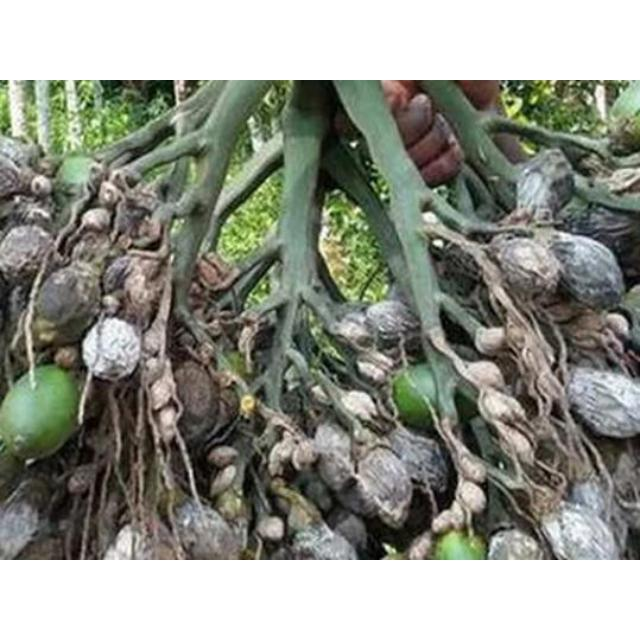damaged: (332, 300, 418, 364), (566, 368, 640, 439), (556, 304, 634, 370), (0, 477, 58, 559), (475, 386, 537, 462), (386, 428, 450, 500), (172, 498, 244, 560), (103, 250, 165, 322), (513, 148, 575, 218), (542, 506, 618, 560), (35, 268, 97, 332), (80, 317, 142, 381), (54, 486, 108, 558), (494, 238, 556, 298), (362, 451, 412, 525), (172, 363, 220, 435), (568, 206, 636, 256), (1, 224, 54, 282), (146, 366, 184, 446), (310, 423, 354, 487), (608, 444, 640, 532), (272, 481, 326, 533), (79, 414, 121, 476), (290, 522, 358, 560), (112, 191, 158, 245), (68, 205, 114, 259), (436, 240, 484, 290), (532, 433, 580, 483), (566, 478, 612, 520), (488, 528, 544, 560), (334, 480, 376, 522), (8, 198, 52, 236), (335, 314, 375, 352), (382, 280, 420, 318), (1, 134, 36, 172), (101, 528, 142, 560), (482, 391, 522, 423), (338, 390, 378, 422), (0, 156, 28, 200), (462, 360, 503, 390), (140, 316, 168, 358), (268, 438, 298, 476), (457, 480, 488, 514), (218, 492, 248, 524), (209, 464, 239, 496), (474, 326, 508, 354), (197, 256, 227, 286), (503, 323, 533, 353), (458, 456, 488, 484), (149, 376, 175, 408), (431, 508, 463, 534), (67, 467, 95, 495), (406, 533, 434, 561), (207, 446, 240, 469), (256, 516, 284, 542), (292, 442, 318, 470)
